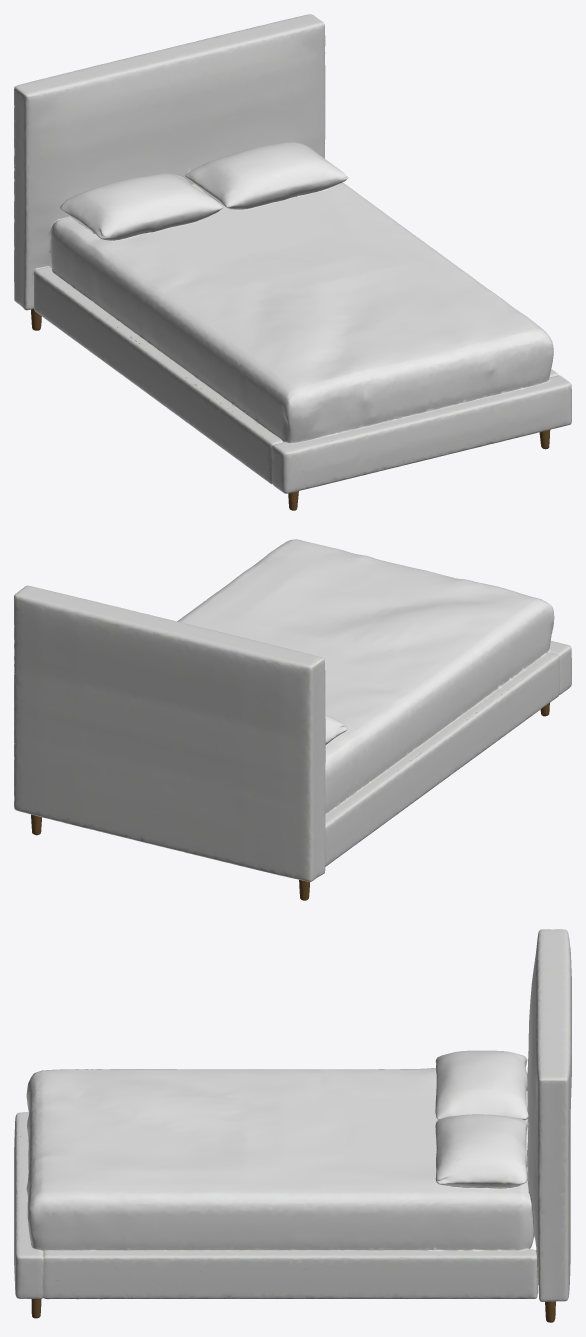
File: minimalist_bed_5xsqfj.glb
3 renders of one model, top to bottom at view 1: azimuth 30°, elevation 25°; view 2: azimuth 150°, elevation 25°; view 3: azimuth 270°, elevation 25°, orthographic. The views are drawn at different scales.
Parts seen in each view (by area): view 1: world; view 2: world; view 3: world.
Boxes of the visible parts, left/top/right/bottom form: world: left=14, top=14, right=571, bottom=510; world: left=14, top=539, right=571, bottom=900; world: left=14, top=929, right=571, bottom=1322.
Bounding box in the file's own units: 0.6438 × 0.4955 × 1.
Materials: 1 (1 with a texture image).
